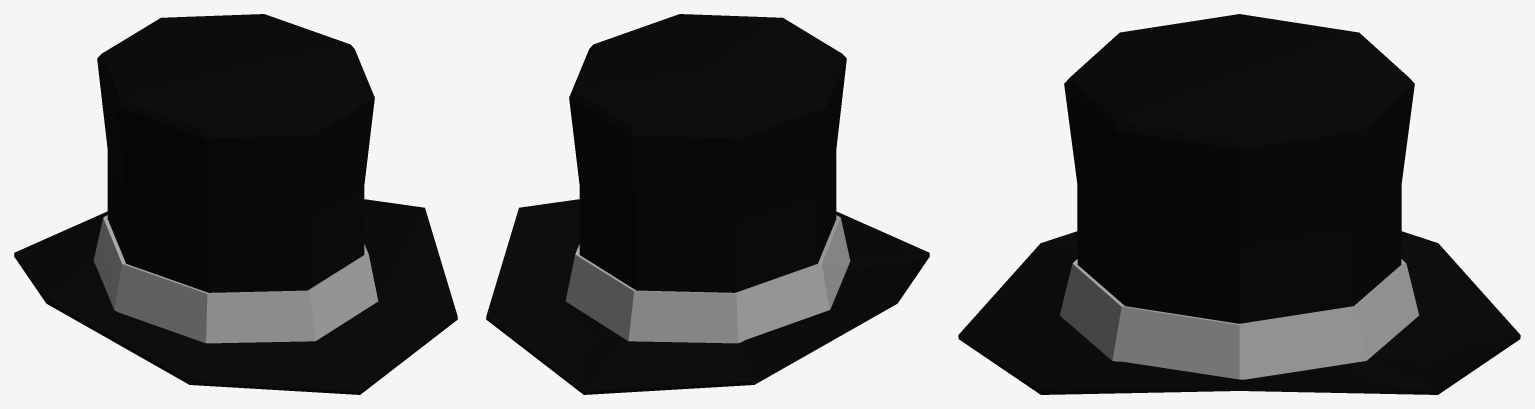
Rendered from top_hat.glb.
3 views of the same model, side by side, from view 1: azimuth 30°, elevation 25°; view 2: azimuth 150°, elevation 25°; view 3: azimuth 270°, elevation 25° (orthographic). The views are drawn at different scales.
Parts seen in each view (by area): view 1: top_hat; view 2: top_hat; view 3: top_hat.
Boxes of the visible parts, x1,y1,x2,y2 form: top_hat: (14, 14, 457, 394); top_hat: (486, 14, 929, 394); top_hat: (958, 14, 1520, 394).
Bounding box in the file's own units: 0.8534 × 0.5008 × 0.9693.
Materials: 1 (1 with a texture image).
